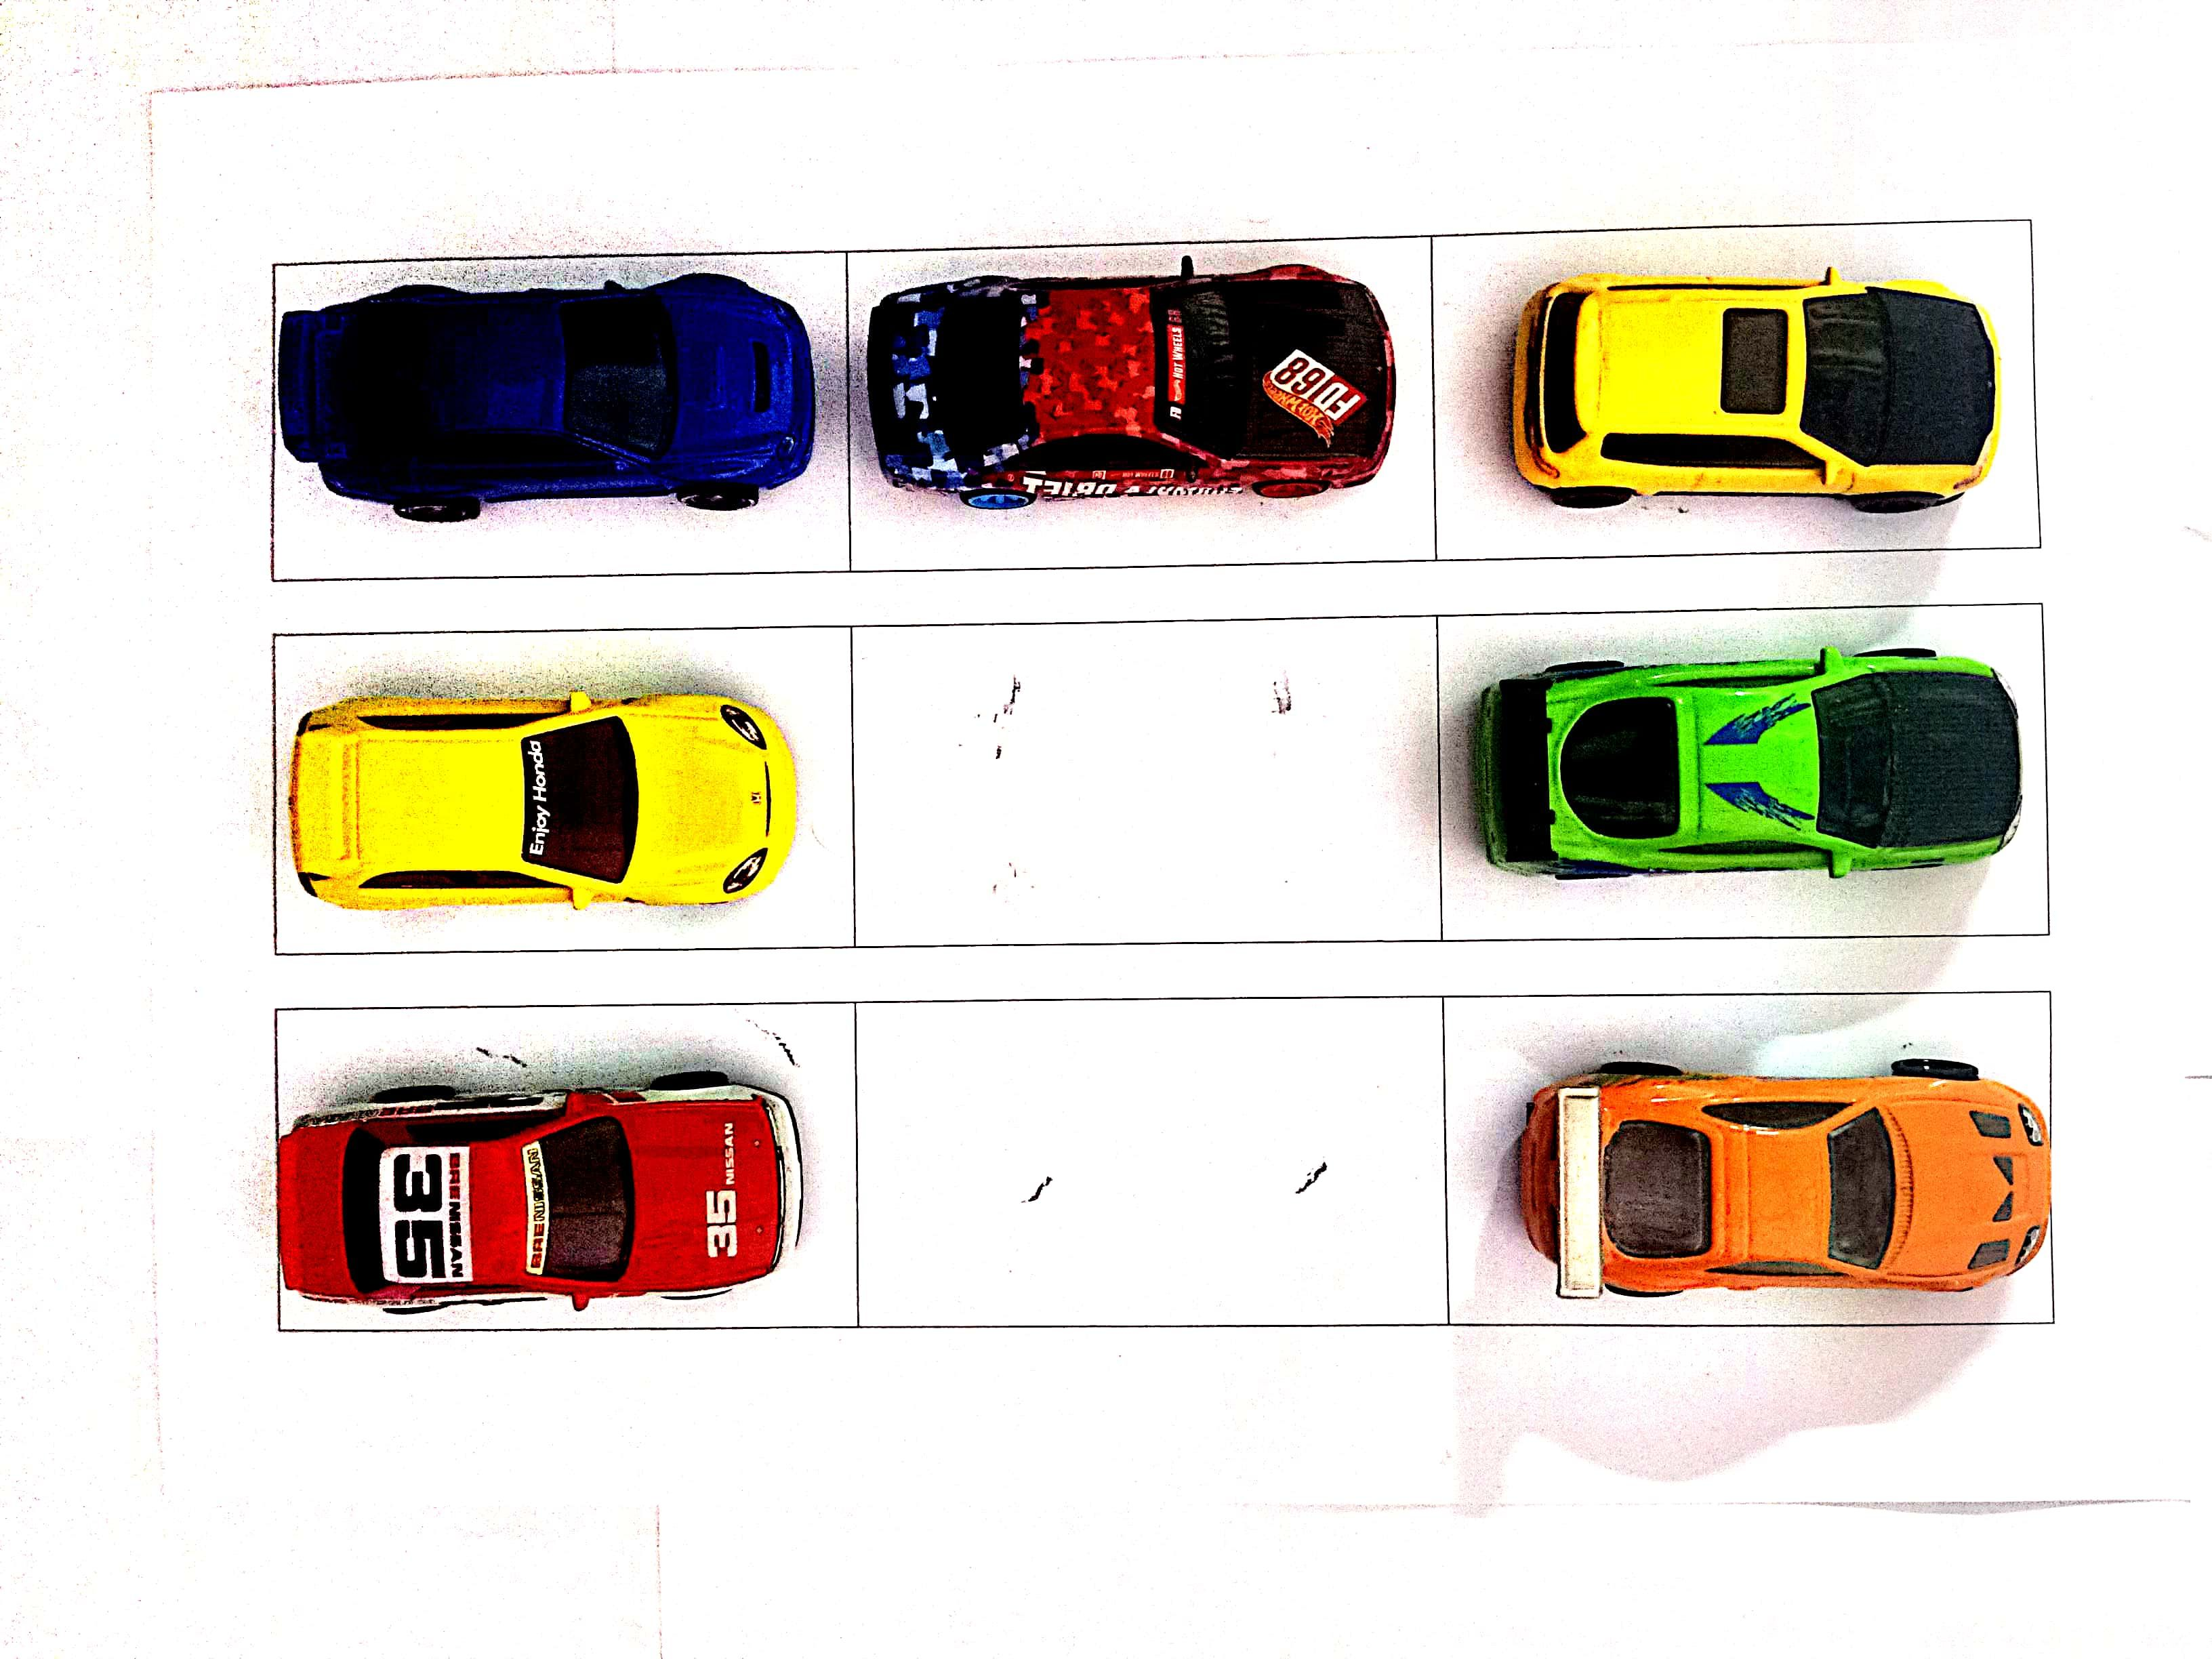Busy: (1442, 992, 2047, 1323), (1437, 223, 2041, 547), (1442, 610, 2047, 931), (852, 235, 1433, 561), (282, 1004, 857, 1331), (273, 626, 848, 946), (279, 253, 848, 572)
Free: (848, 626, 1439, 943), (859, 1009, 1442, 1321)
